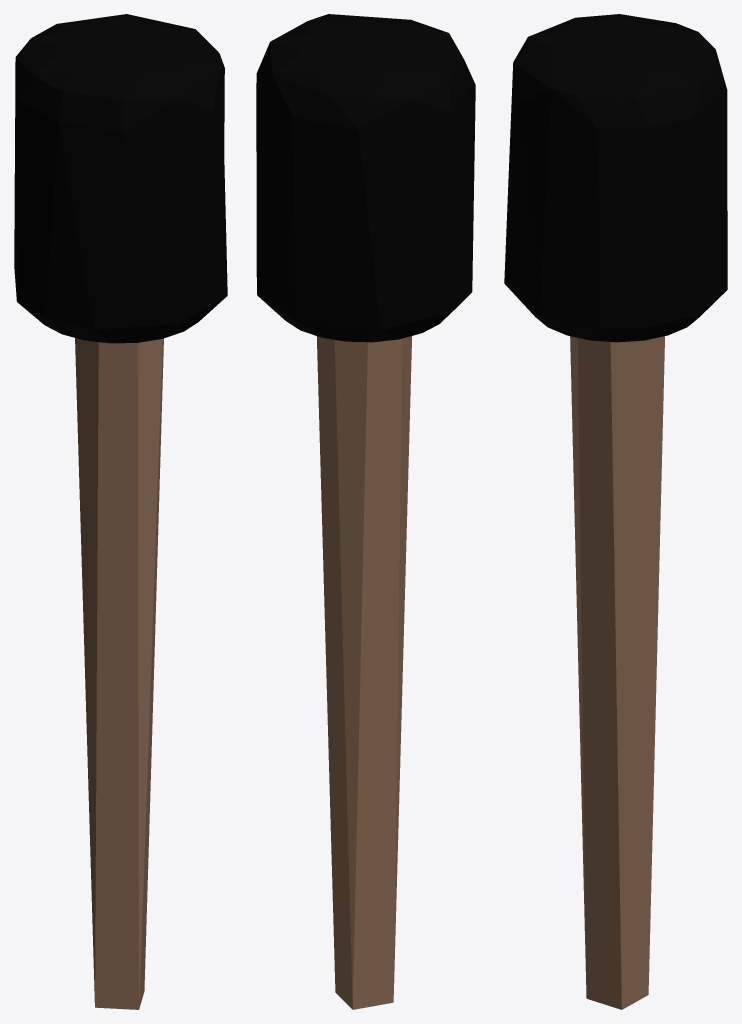
File: low_poly_torch.fbx
3 views of the same model, side by side, from view 1: azimuth 30°, elevation 25°; view 2: azimuth 150°, elevation 25°; view 3: azimuth 270°, elevation 25° (orthographic).
Parts seen in each view (by area): view 1: Torch; view 2: Torch; view 3: Torch.
Boxes of the visible parts, left/top/right/bottom form: Torch: left=14, top=14, right=227, bottom=1009; Torch: left=256, top=14, right=475, bottom=1009; Torch: left=504, top=14, right=727, bottom=1009.
Size of the model in its own units: 80.08 by 381 by 81.19.
